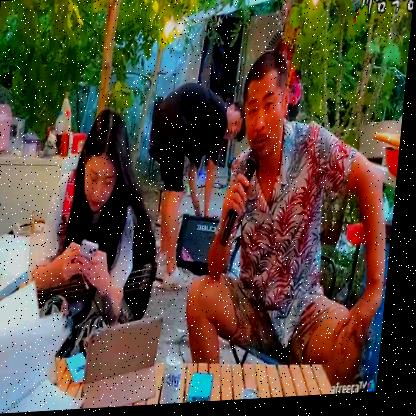streamer: (184, 47, 408, 406), (31, 107, 171, 358), (144, 81, 252, 296)
